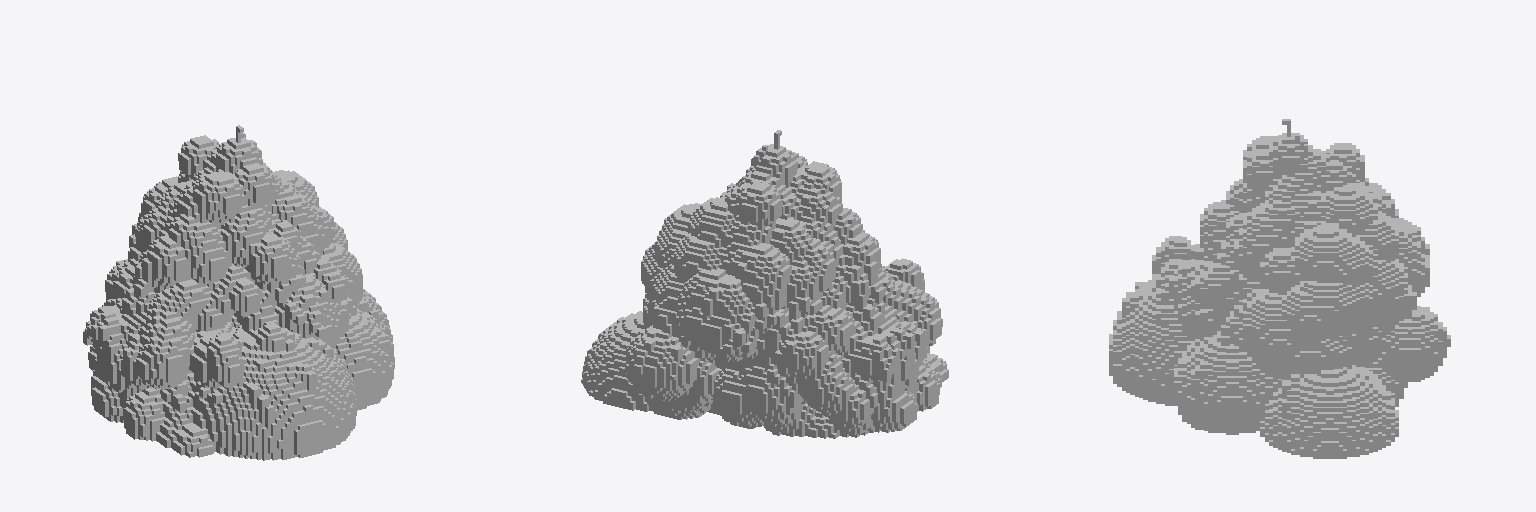
The model's file is Ice_Cream.obj.
3 renders of one model, left to right at view 1: azimuth 30°, elevation 25°; view 2: azimuth 150°, elevation 25°; view 3: azimuth 270°, elevation 25°, orthographic.
Bounding box in the file's own units: 80 × 66 × 79.